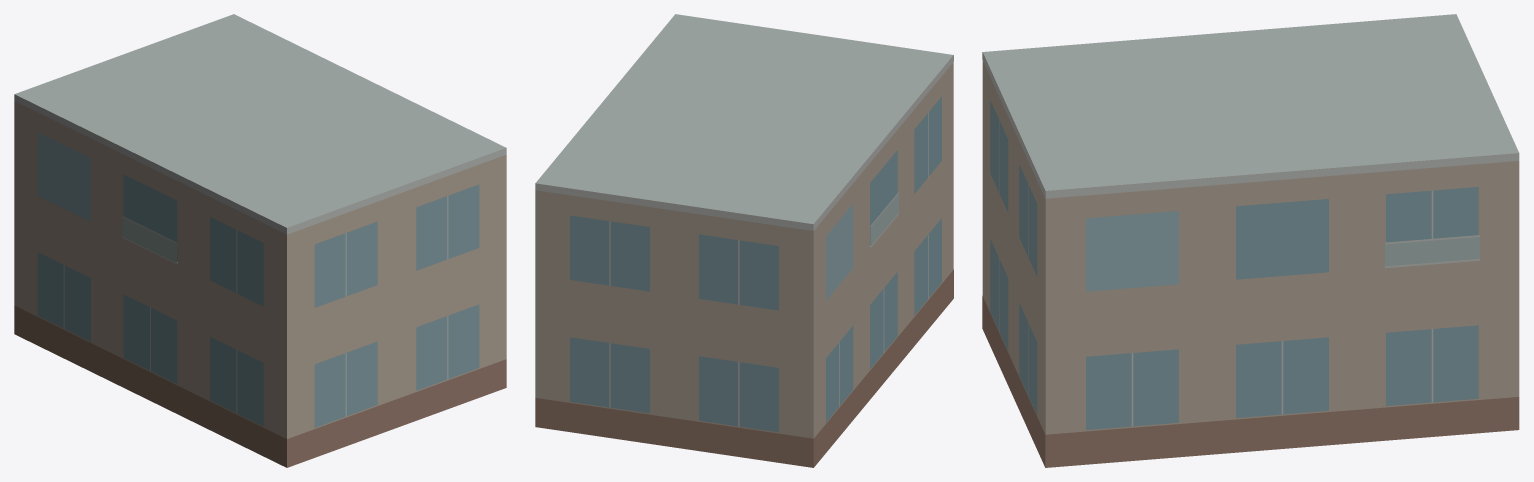
The model's file is survey-upis-32507222.glb.
The picture shows the model from 3 angles, left to right: view 1: azimuth 30°, elevation 25°; view 2: azimuth 150°, elevation 25°; view 3: azimuth 270°, elevation 25°; orthographic projection. The views are drawn at different scales.
Parts seen in each view (by area): view 1: survey-upis-32507222.tmp; view 2: survey-upis-32507222.tmp; view 3: survey-upis-32507222.tmp.
Part boxes in pixels (left/top/right/bottom): survey-upis-32507222.tmp: left=14, top=14, right=506, bottom=467; survey-upis-32507222.tmp: left=535, top=14, right=953, bottom=467; survey-upis-32507222.tmp: left=982, top=14, right=1519, bottom=467.
Size of the model in its own units: 11.93 by 8.7 by 15.29.
